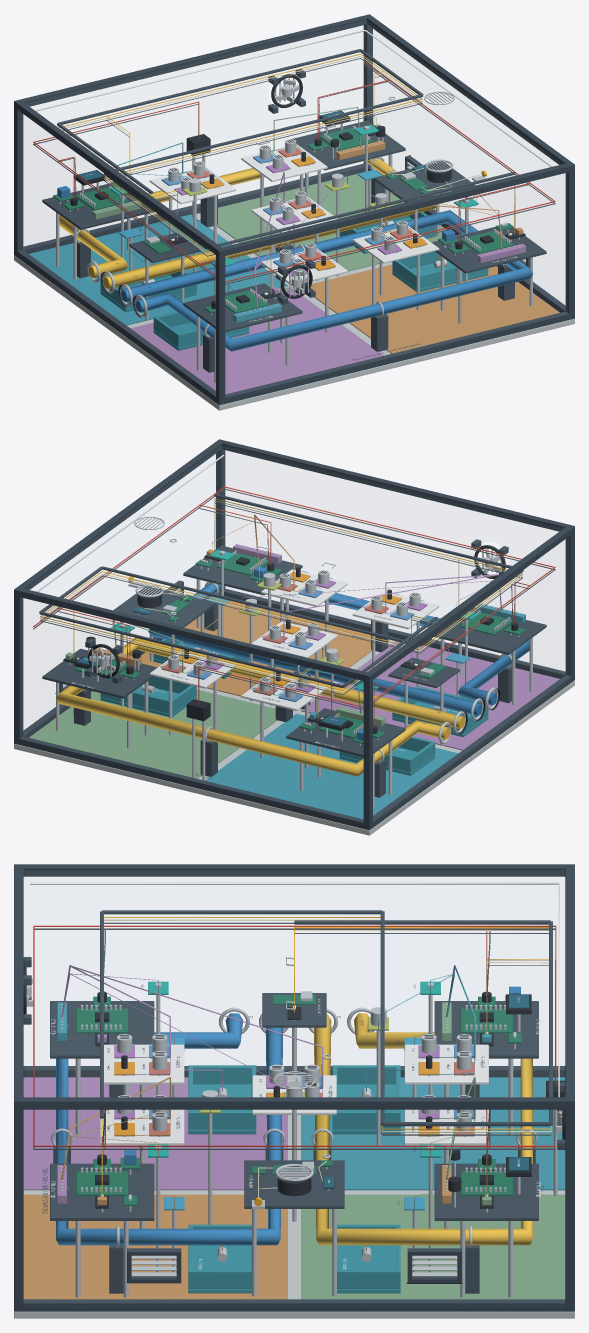
Rendered from utility-tunnel-v20.glb.
The picture shows the model from 3 angles, top to bottom: view 1: azimuth 30°, elevation 25°; view 2: azimuth 150°, elevation 25°; view 3: azimuth 270°, elevation 25°; orthographic projection. The views are drawn at different scales.
Visible parts, largest first — view 1: ZONE_4_FLOOR, PIPE-W01, ZONE_3_FLOOR, ZONE_1_FLOOR, ZONE_2_FLOOR, STRUCTURE_BASE, PIPE-G01, FRAME_X_6_16, FRAME_X_6_294, FRAME_X_694_294, FRAME_Y_6_294, FRAME_Y_6_16 (+34 smaller); view 2: ZONE_2_FLOOR, ZONE_1_FLOOR, PIPE-G01, ZONE_3_FLOOR, PIPE-W01, STRUCTURE_BASE, ZONE_4_FLOOR, FRAME_X_694_16, FRAME_X_694_294, FRAME_X_6_294, FRAME_Y_6_294, FRAME_Y_6_16 (+31 smaller); view 3: ZONE_2_FLOOR, ZONE_4_FLOOR, ZONE_3_FLOOR, ZONE_1_FLOOR, PIPE-W01, PIPE-G01, FRAME_Y_694_16, STRUCTURE_BASE, FRAME_Y_694_294, FRAME_Y_6_294, CTRL-03_PLATFORM, CTRL-04_PLATFORM (+43 smaller).
Boxes of the visible parts, x1,y1,x2,y2 form: ZONE_4_FLOOR: [310, 264, 559, 353]; PIPE-W01: [120, 210, 532, 351]; ZONE_3_FLOOR: [131, 290, 383, 394]; ZONE_1_FLOOR: [29, 214, 287, 325]; ZONE_2_FLOOR: [199, 173, 446, 271]; STRUCTURE_BASE: [14, 213, 574, 410]; PIPE-G01: [59, 158, 437, 288]; FRAME_X_6_16: [222, 311, 571, 404]; FRAME_X_6_294: [222, 163, 571, 255]; FRAME_X_694_294: [20, 15, 366, 106]; FRAME_Y_6_294: [16, 102, 221, 254]; FRAME_Y_6_16: [16, 250, 216, 402]; ZONE_2_FLOOR: [29, 689, 276, 778]; ZONE_1_FLOOR: [205, 713, 457, 819]; PIPE-G01: [56, 637, 465, 776]; ZONE_3_FLOOR: [301, 641, 559, 750]; PIPE-W01: [148, 583, 529, 716]; STRUCTURE_BASE: [14, 639, 574, 835]; ZONE_4_FLOOR: [140, 600, 371, 696]; FRAME_X_694_16: [17, 736, 366, 829]; FRAME_X_694_294: [17, 588, 366, 680]; FRAME_X_6_294: [222, 440, 568, 531]; FRAME_Y_6_294: [367, 527, 571, 679]; FRAME_Y_6_16: [371, 675, 571, 827]; ZONE_2_FLOOR: [301, 1194, 565, 1299]; ZONE_4_FLOOR: [23, 1194, 287, 1299]; ZONE_3_FLOOR: [23, 1077, 287, 1190]; ZONE_1_FLOOR: [301, 1077, 565, 1190]; PIPE-W01: [56, 1013, 283, 1245]; PIPE-G01: [313, 1013, 532, 1245]; FRAME_Y_694_16: [19, 1299, 569, 1311]; STRUCTURE_BASE: [14, 1115, 574, 1318]; FRAME_Y_694_294: [19, 1097, 569, 1109]; FRAME_Y_6_294: [23, 864, 565, 876]; CTRL-03_PLATFORM: [50, 1163, 154, 1220]; CTRL-04_PLATFORM: [434, 1163, 538, 1220].
Bounding box in the file's own units: 0.7 × 0.3 × 0.7.
